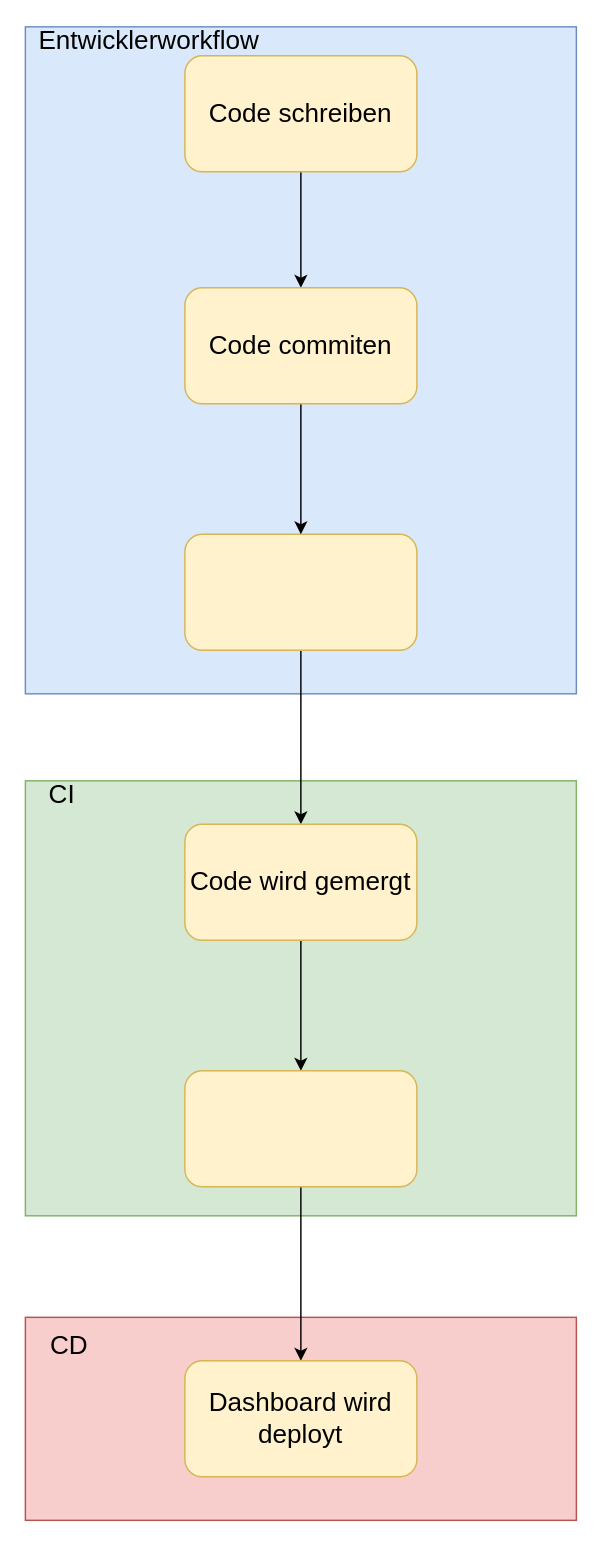
Image size: 602x1546. Some labels were removed from this diagram. The centre of each missing label's shape, as x and y in pixels:
"Code pushen" goes at (300,591).
"Preview wird erstellt" goes at (300,1128).
